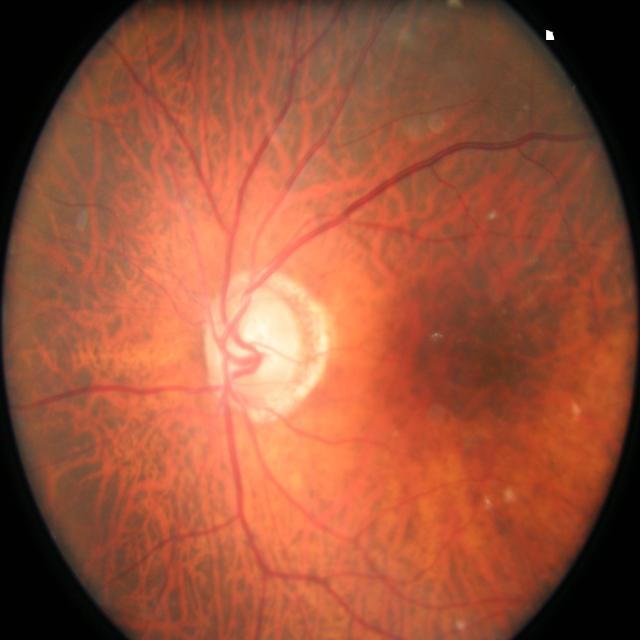OC: (222, 300, 292, 383)
OD: (200, 275, 300, 423)
